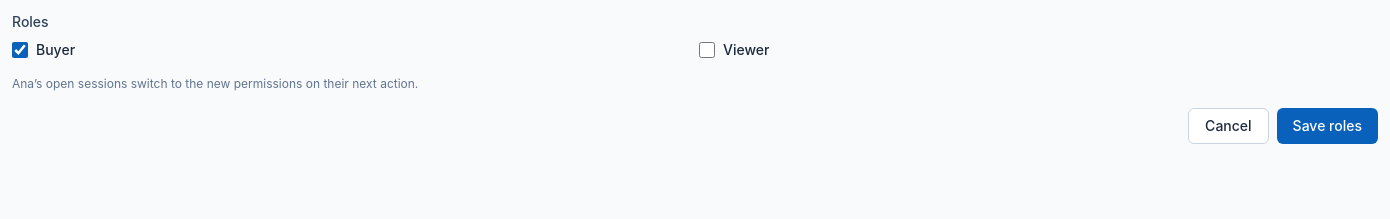
Test: EditRolesForm › refuses an empty selection and points to suspension instead
Click the checkbox labelled "Buyer".
click(20, 50)  # box [12,42,28,58]
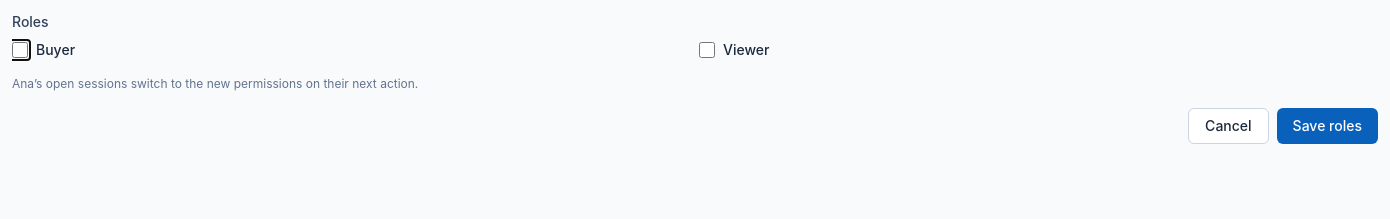
Click the button "Save roles".
click(1327, 126)  # box [1277,108,1378,144]
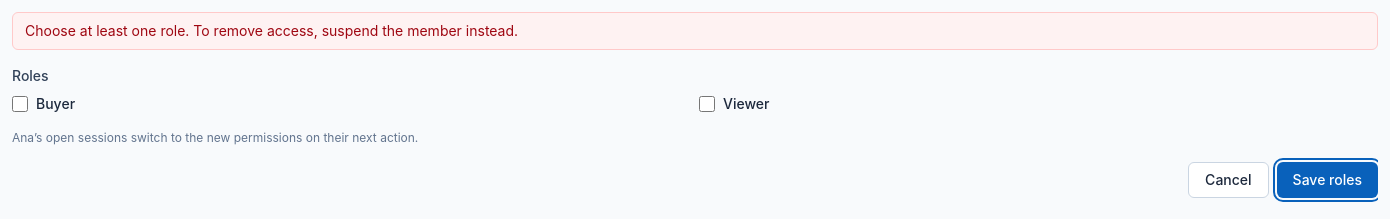
Expected: the message shows "suspend the member instead", [25,22,518,39]
